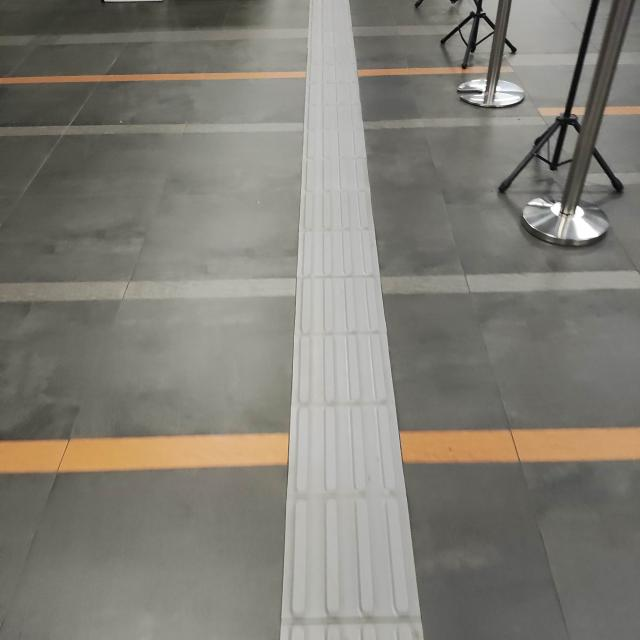lurus: (299, 4, 403, 640)
